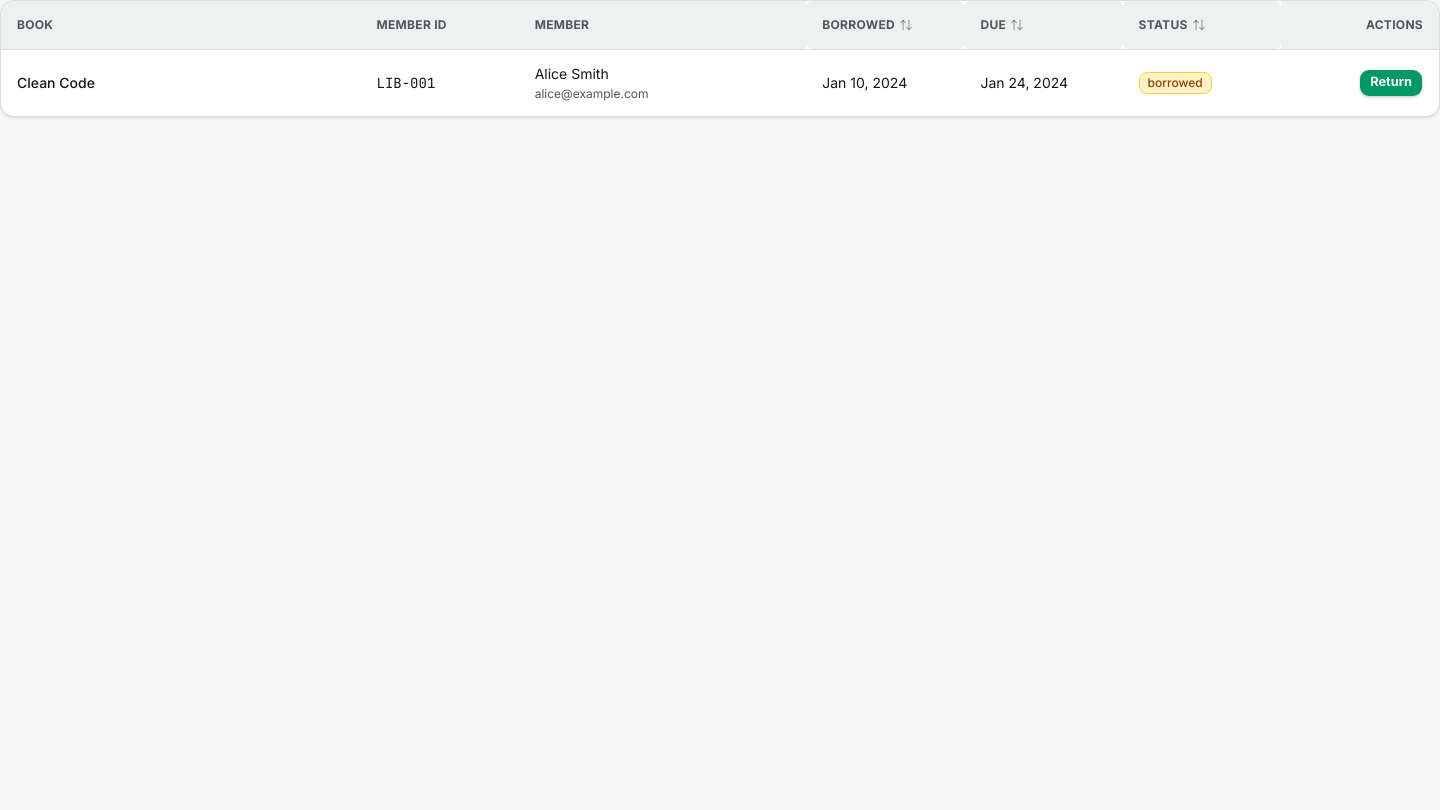
it: BorrowingTable › opens confirmation dialog when Return is clicked
Click the button "Return" at {"x": 1391, "y": 82}, box x1=1359 y1=68 x2=1423 y2=96
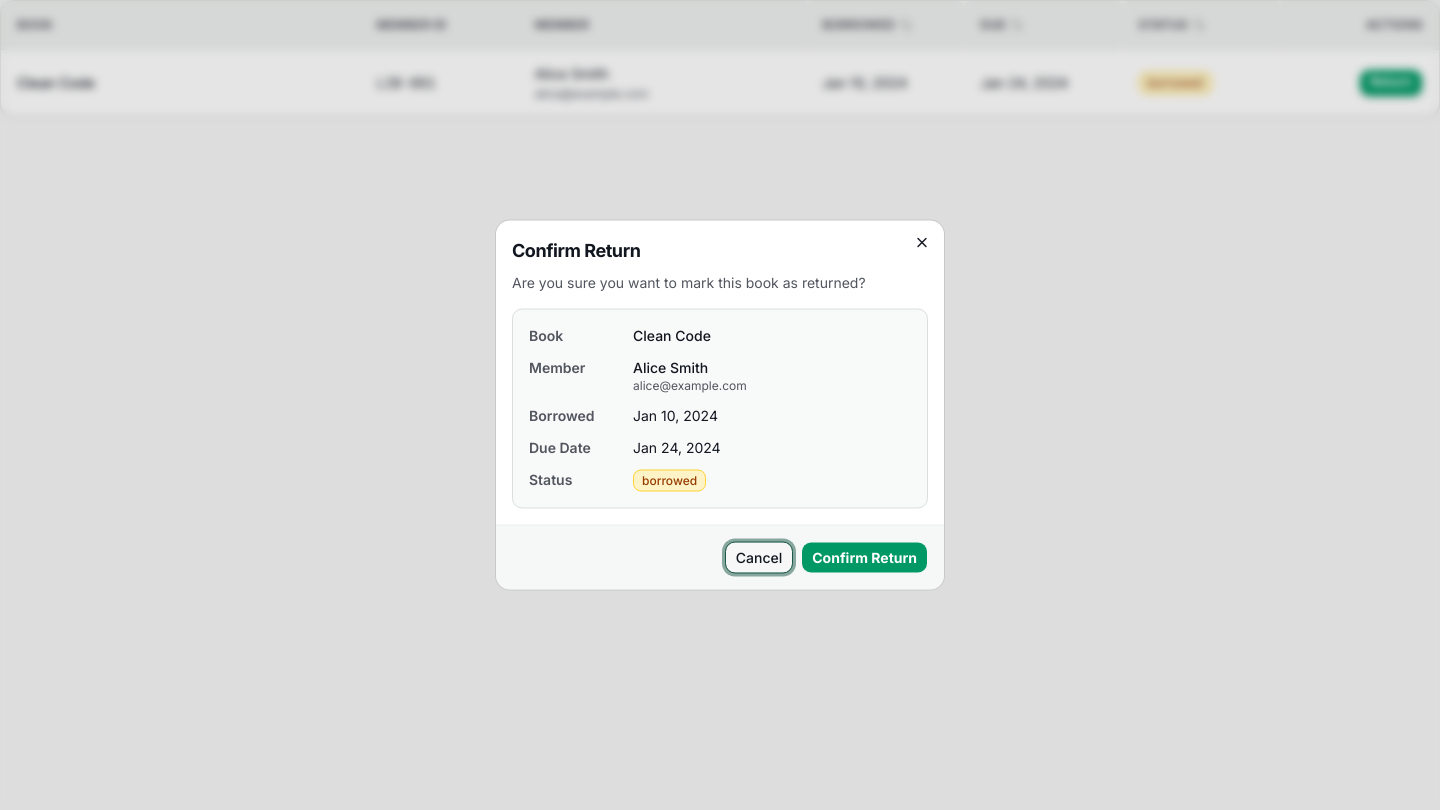
Now the button "Confirm Return" is shown, box x1=801 y1=542 x2=928 y2=574
